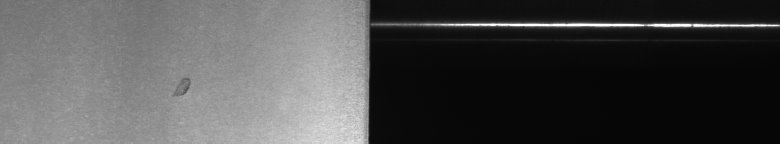fi: (172, 71, 194, 104)
